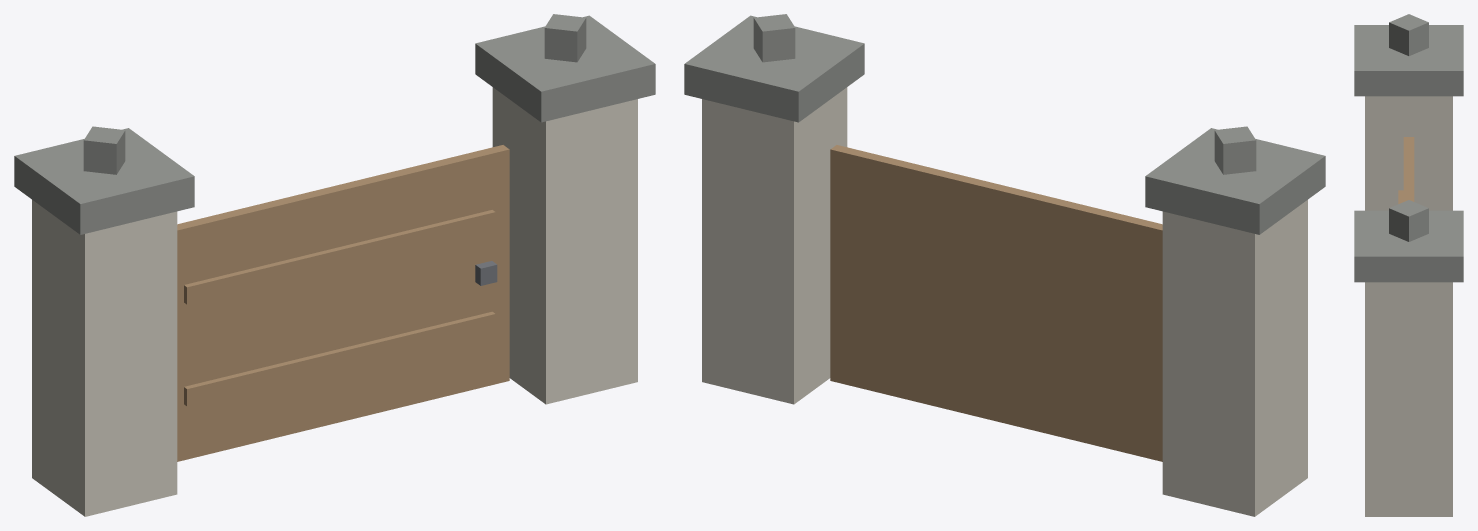
File: lighthouse-and-rocky-coast-garden-gate-0950fe54__36601.glb
The picture shows the model from 3 angles, left to right: view 1: azimuth 30°, elevation 25°; view 2: azimuth 150°, elevation 25°; view 3: azimuth 270°, elevation 25°; orthographic projection. The views are drawn at different scales.
Visible parts, largest first — view 1: garden-gate, gate/timber; view 2: garden-gate, gate/timber; view 3: garden-gate, gate/timber.
Part boxes in pixels (bbox=[...]): garden-gate: bbox=[14, 14, 655, 516]; gate/timber: bbox=[177, 145, 509, 461]; garden-gate: bbox=[684, 14, 1325, 516]; gate/timber: bbox=[830, 145, 1162, 461]; garden-gate: bbox=[1354, 14, 1463, 516]; gate/timber: bbox=[1398, 137, 1414, 203].
Size of the model in its own units: 3.12 by 1.82 by 0.6201.
